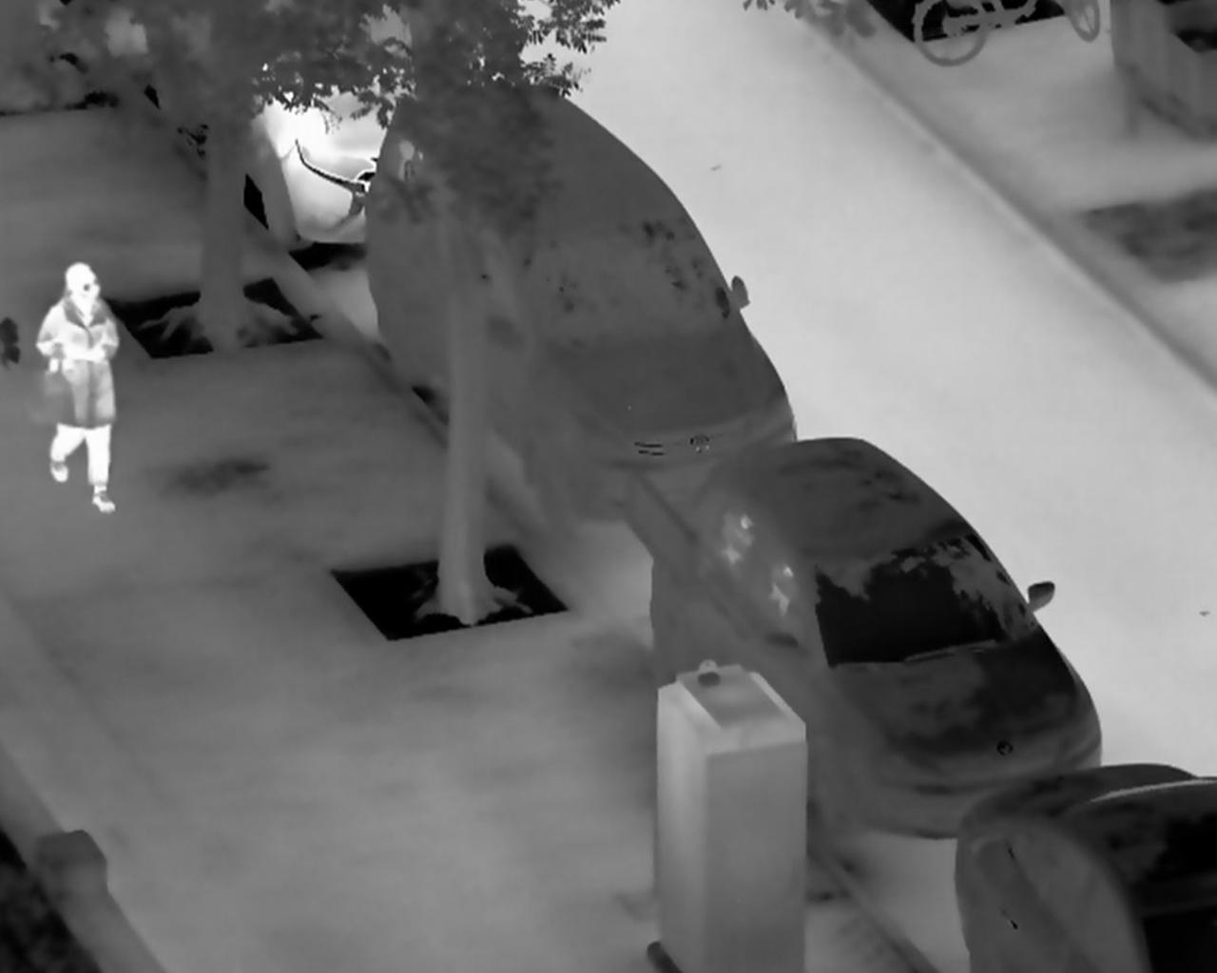person: (37, 260, 123, 517)
